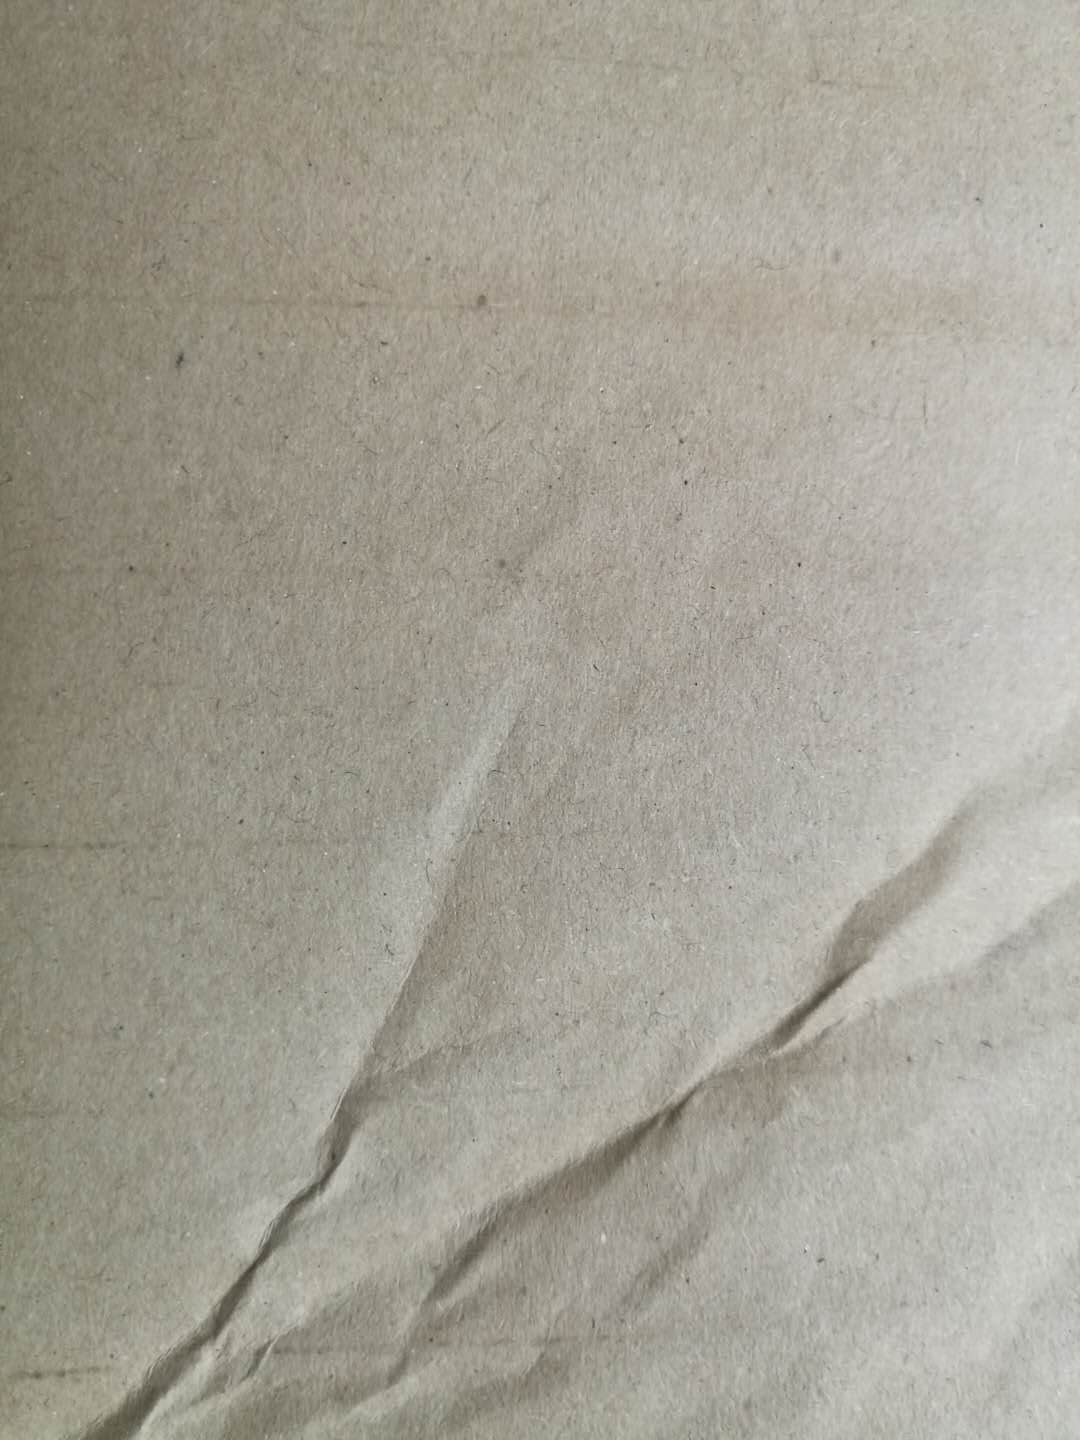defect: (34, 621, 1078, 1440)
